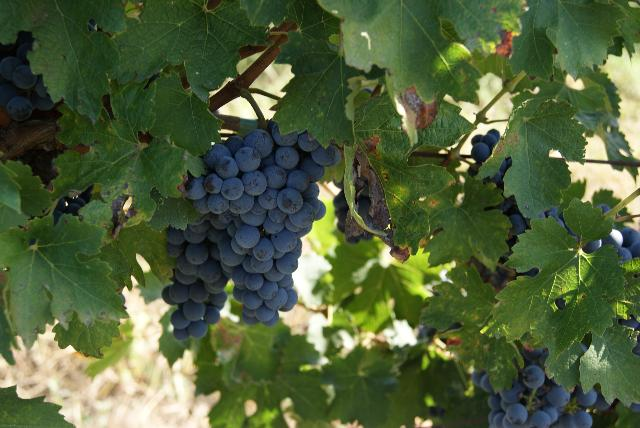grapes: (204, 129, 340, 326), (161, 176, 231, 341)
